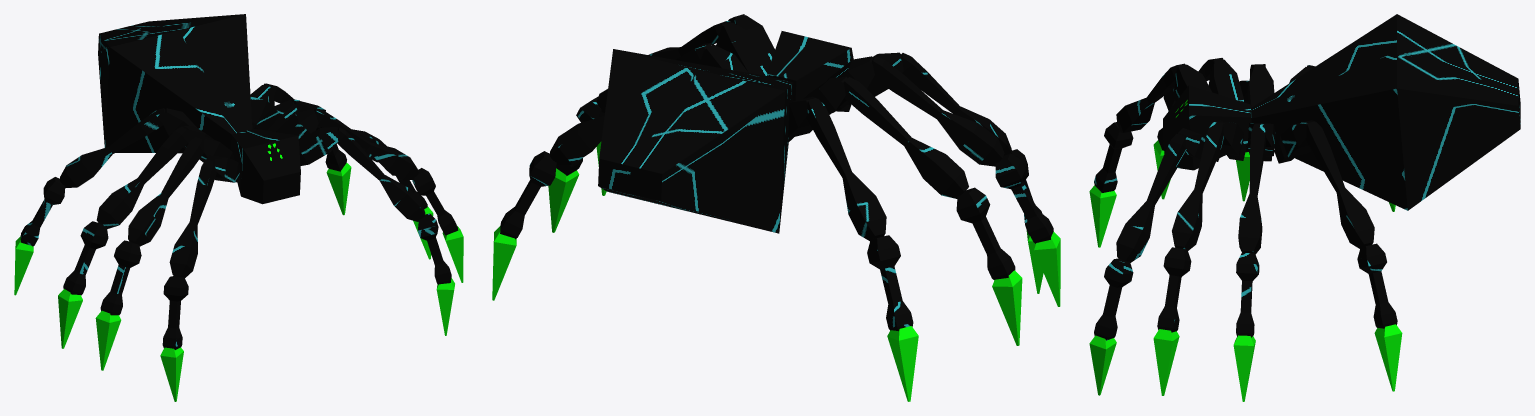
Rendered from spider.obj.
3 views of the same model, side by side, from view 1: azimuth 30°, elevation 25°; view 2: azimuth 150°, elevation 25°; view 3: azimuth 270°, elevation 25° (orthographic). The views are drawn at different scales.
Visible parts, largest first — view 1: 立方体; view 2: 立方体; view 3: 立方体.
Part boxes in pixels (x1,y1,x2,y2): 立方体: (14,14,463,401); 立方体: (492,14,1060,401); 立方体: (1089,14,1520,401).
Bounding box in the file's own units: 6.5 × 4.06 × 5.87.
Materials: 1 (1 with a texture image).
